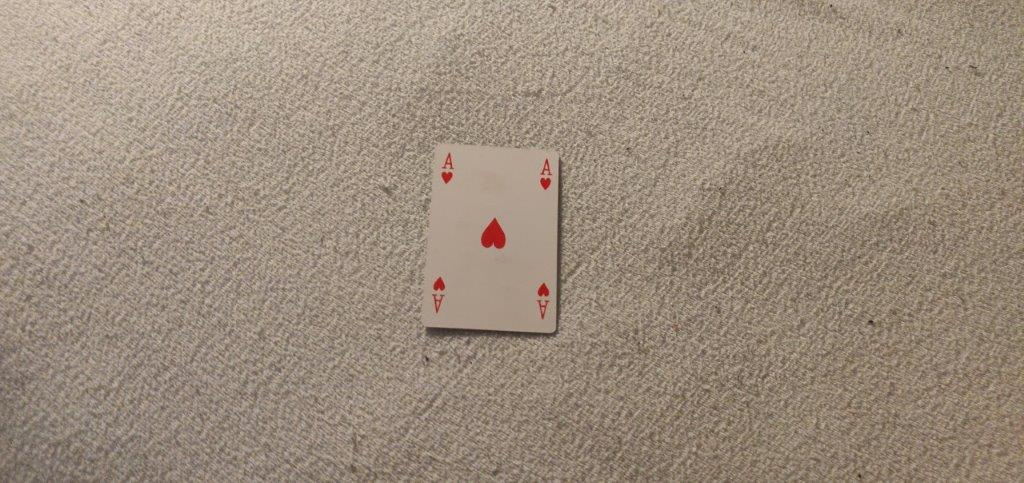AH: (439, 150, 458, 186), (538, 157, 553, 190)
